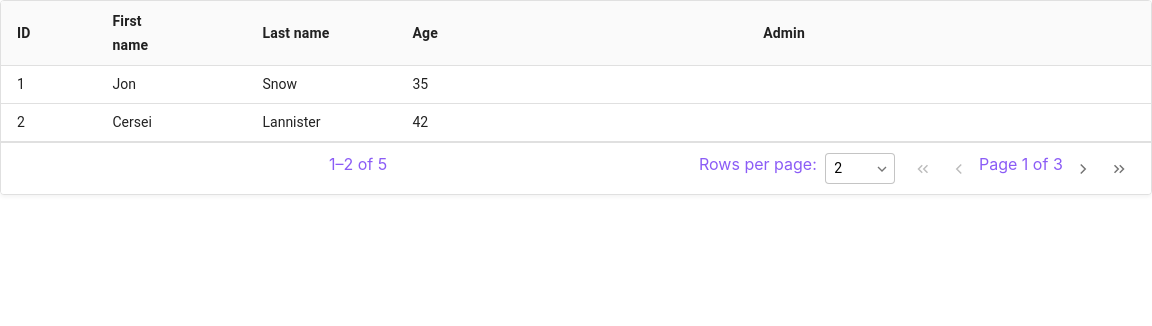
Test: DataGrid › Pagination › changes page size
Select "5" in the dropdown at (860, 168), box x1=825 y1=153 x2=895 y2=184
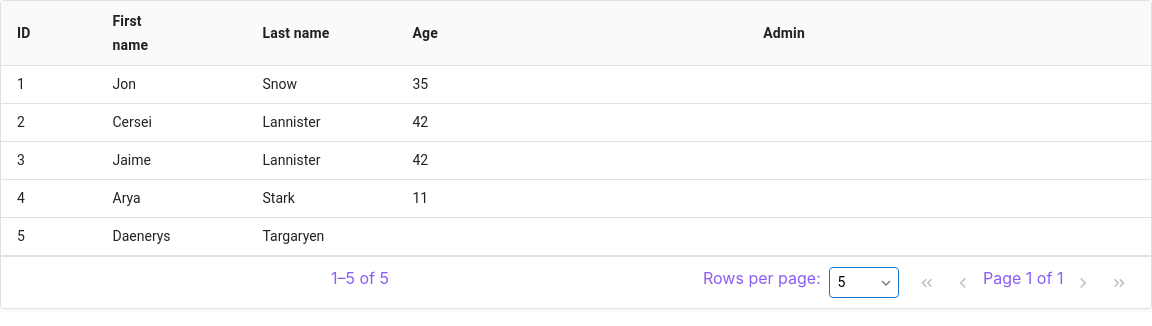
Expected: the text "1–5 of 5" is shown, x1=331 y1=266 x2=389 y2=291
Expected: the text "Arya" is shown, x1=96 y1=180 x2=246 y2=218
